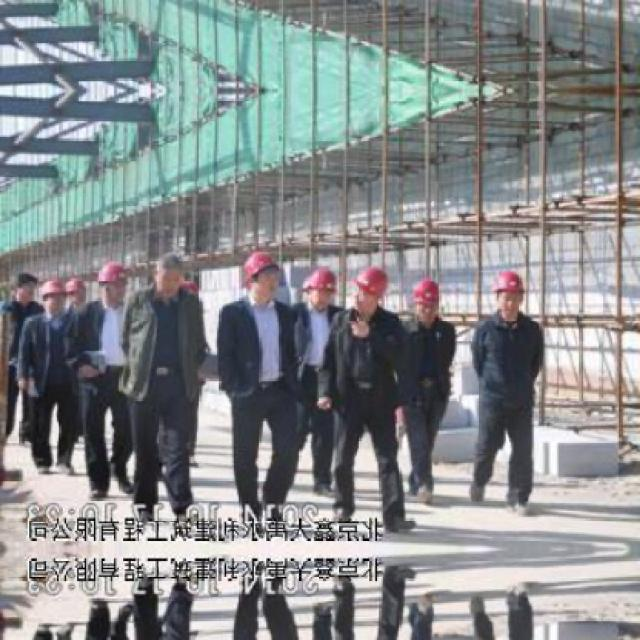con casco: (337, 270, 403, 325), (486, 266, 539, 318), (240, 254, 297, 301), (405, 278, 447, 326), (92, 260, 140, 301), (27, 278, 70, 316)
